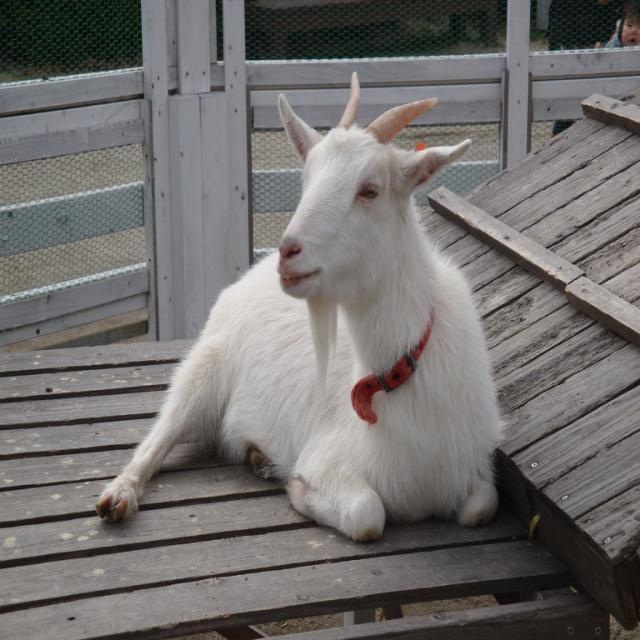Goat: (94, 69, 507, 543)
